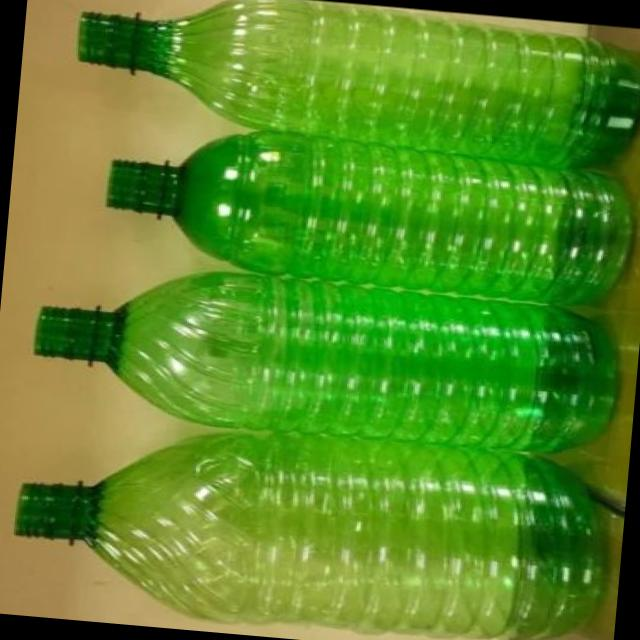plastic_bottle: (0, 0, 640, 640), (0, 411, 618, 640), (6, 253, 633, 472), (41, 0, 640, 182), (91, 121, 639, 309)
